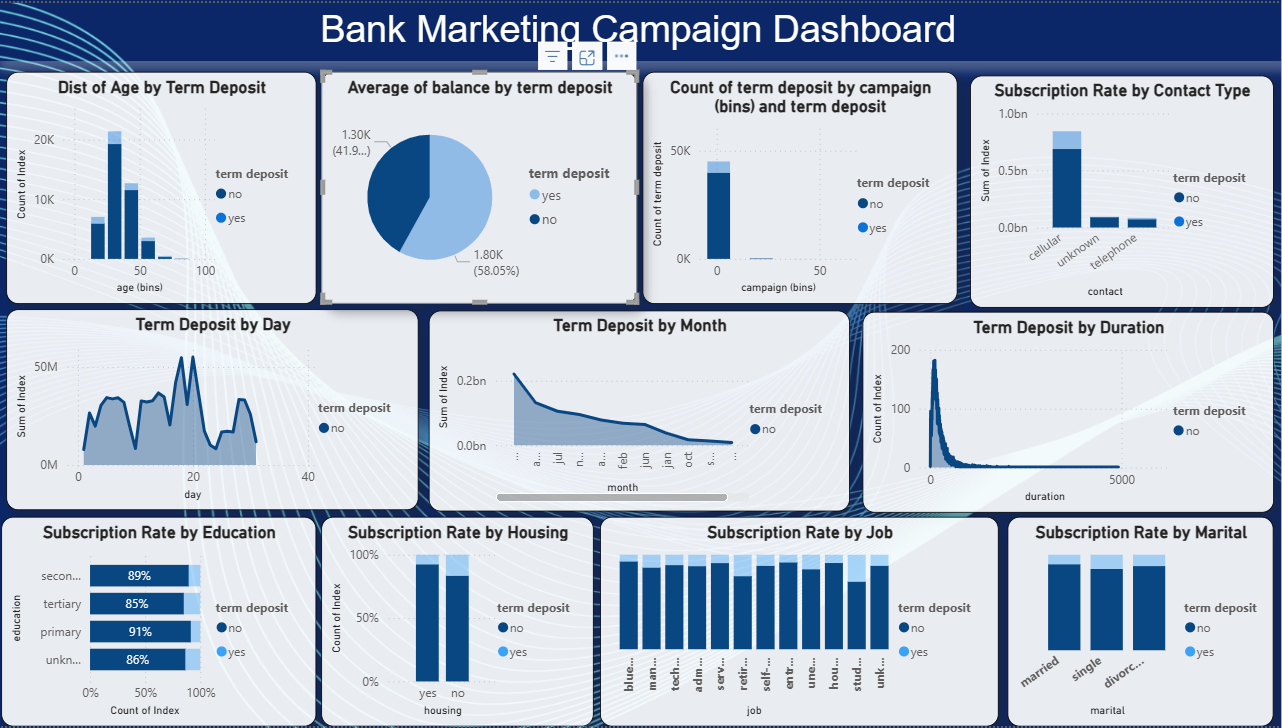

What the dashboard file says about the page in this screenshot:
{"tool":"powerbi","page":{"name":"Page 1","canvas":[1280,720],"ordinal":0},"visuals":[{"type":"textbox","box":[0,0,1280.3,57.5],"z":0},{"type":"columnChart","title":"Dist of Age by Term Deposit","fields":{"Y":["CountNonNull(Bank Marketing.Index)"],"Category":["Bank Marketing.age (bins)"],"Series":["Bank Marketing.term deposit"]},"box":[11.2,68.4,308.6,231.4],"z":1000},{"type":"pieChart","fields":{"Category":["Bank Marketing.term deposit"],"Y":["Avg(Bank Marketing.balance)"]},"box":[324.7,68.4,314.8,231.4],"z":2000},{"type":"columnChart","fields":{"Category":["Bank Marketing.campaign (bins)"],"Y":["CountNonNull(Bank Marketing.term deposit)"],"Series":["Bank Marketing.term deposit"]},"box":[644.5,68.4,313.5,231.4],"z":3000},{"type":"columnChart","title":"Subscription Rate by Contact Type","fields":{"Series":["Bank Marketing.term deposit"],"Category":["Bank Marketing.contact"],"Y":["Sum(Bank Marketing.Index)"]},"box":[970.5,72.2,302.3,231.4],"z":4000},{"type":"areaChart","title":"Term Deposit by Day","fields":{"Category":["Bank Marketing.day"],"Y":["Sum(Bank Marketing.Index)"],"Series":["Bank Marketing.term deposit"]},"box":[11.2,304.8,410.6,200.3],"z":5000},{"type":"areaChart","title":"Term Deposit by Month","fields":{"Y":["Sum(Bank Marketing.Index)"],"Series":["Bank Marketing.term deposit"],"Category":["Bank Marketing.month"]},"box":[431.7,306.1,419.3,200.3],"z":6000},{"type":"areaChart","title":"Term Deposit by Duration","fields":{"Y":["CountNonNull(Bank Marketing.Index)"],"Series":["Bank Marketing.term deposit"],"Category":["Bank Marketing.duration"]},"box":[863.5,307.3,409.3,200.3],"z":7000},{"type":"hundredPercentStackedBarChart","title":"Subscription Rate by Education","fields":{"Category":["Bank Marketing.education"],"Series":["Bank Marketing.term deposit"],"Y":["CountNonNull(Bank Marketing.Index)"]},"box":[6.2,511,313.5,209],"z":8000},{"type":"hundredPercentStackedColumnChart","title":"Subscription Rate by Housing","fields":{"Category":["Bank Marketing.housing"],"Series":["Bank Marketing.term deposit"],"Y":["CountNonNull(Bank Marketing.Index)"]},"box":[324.7,511,271.2,209],"z":9000},{"type":"hundredPercentStackedColumnChart","title":"Subscription Rate by Job","fields":{"Series":["Bank Marketing.term deposit"],"Y":["CountNonNull(Bank Marketing.Index)"],"Category":["Bank Marketing.job"]},"box":[602.2,511,396.9,209],"z":10000},{"type":"hundredPercentStackedColumnChart","title":"Subscription Rate by Marital","fields":{"Series":["Bank Marketing.term deposit"],"Y":["CountNonNull(Bank Marketing.Index)"],"Category":["Bank Marketing.marital"]},"box":[1007.8,511,265,209],"z":11000}]}

Visuals, with their boxes in screenshot pixels (x1, y1, x2, y2):
textbox: [left=0, top=7, right=1261, bottom=63]
"Dist of Age by Term Deposit" columnChart: [left=8, top=74, right=313, bottom=303]
pieChart - Bank Marketing.term deposit x Avg(Bank Marketing.balance): [left=317, top=74, right=628, bottom=303]
columnChart - Bank Marketing.campaign (bins) x CountNonNull(Bank Marketing.term deposit): [left=633, top=74, right=943, bottom=303]
"Subscription Rate by Contact Type" columnChart: [left=955, top=78, right=1254, bottom=307]
"Term Deposit by Day" areaChart: [left=8, top=308, right=413, bottom=506]
"Term Deposit by Month" areaChart: [left=423, top=309, right=837, bottom=507]
"Term Deposit by Duration" areaChart: [left=850, top=310, right=1254, bottom=508]
"Subscription Rate by Education" hundredPercentStackedBarChart: [left=3, top=511, right=312, bottom=718]
"Subscription Rate by Housing" hundredPercentStackedColumnChart: [left=317, top=511, right=585, bottom=718]
"Subscription Rate by Job" hundredPercentStackedColumnChart: [left=591, top=511, right=983, bottom=718]
"Subscription Rate by Marital" hundredPercentStackedColumnChart: [left=992, top=511, right=1254, bottom=718]
